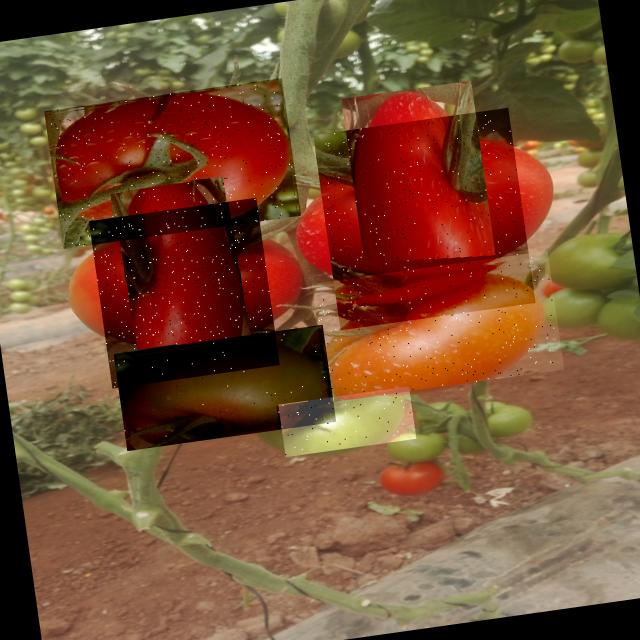Ripe Tomato: (314, 108, 536, 330), (45, 78, 302, 249), (312, 250, 564, 402), (89, 198, 280, 388)
Unripe Tomato: (114, 325, 336, 451), (278, 386, 416, 457)
